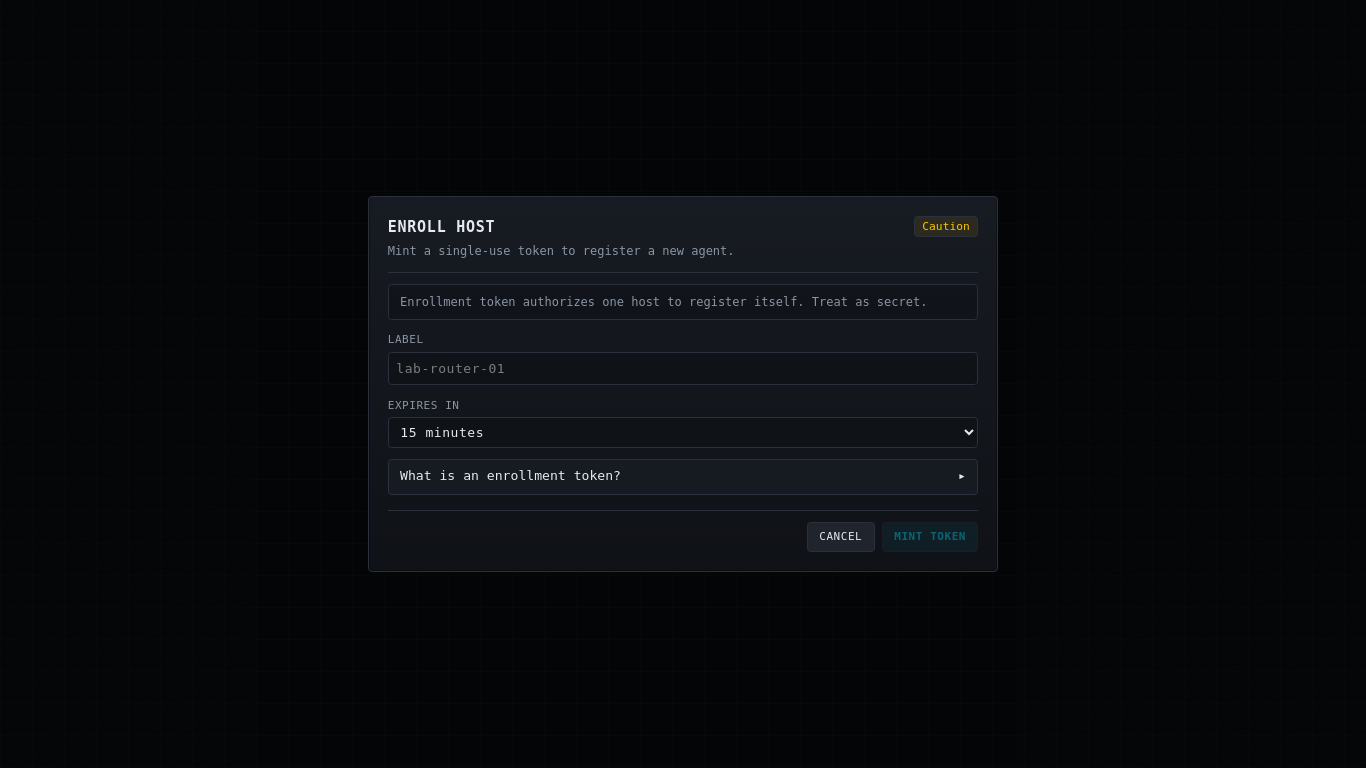
Scenario: EnrollmentModal step 3 watching › shows watching state when user clicks Watch for redemption
Type "lab-01" into the field labelled "Label" at (683, 369), box x1=388 y1=352 x2=978 y2=385
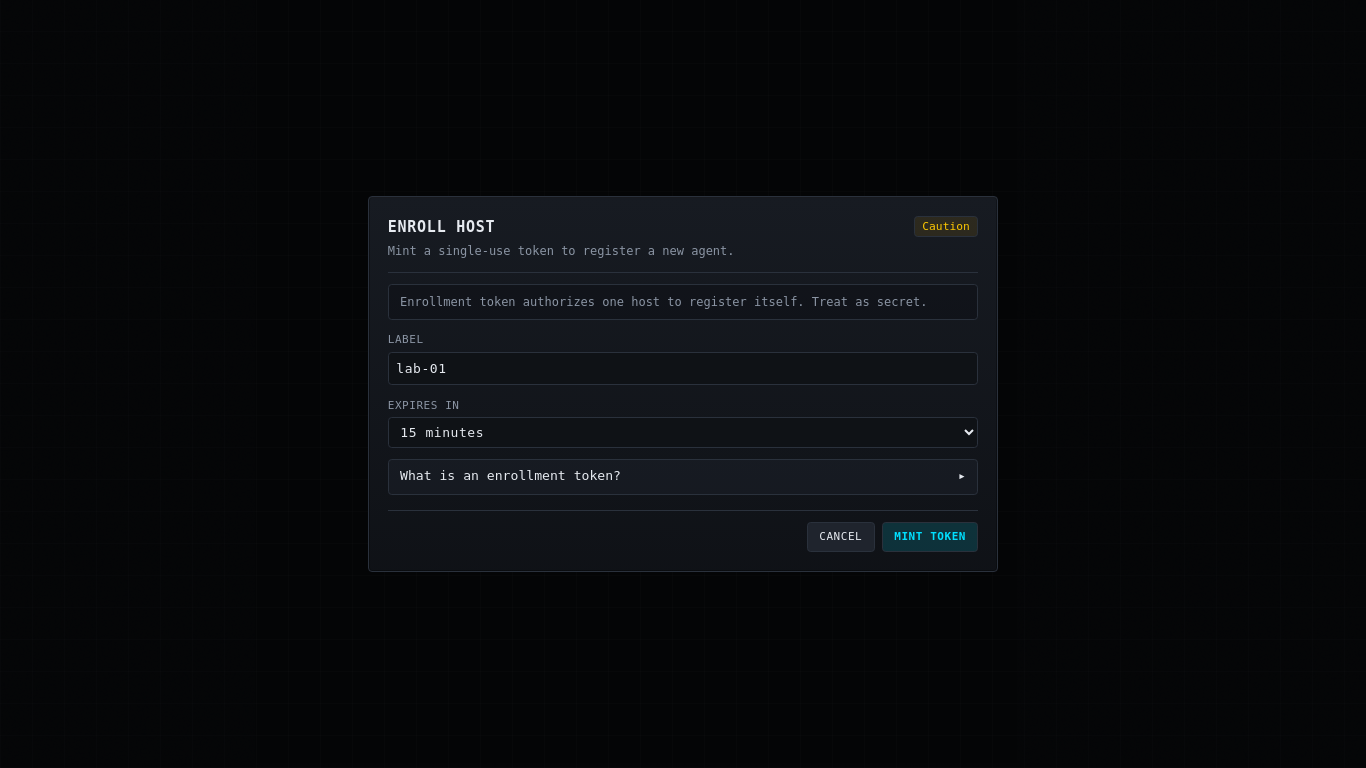
Click the button "Mint Token" at (930, 537), box x1=882 y1=522 x2=978 y2=552
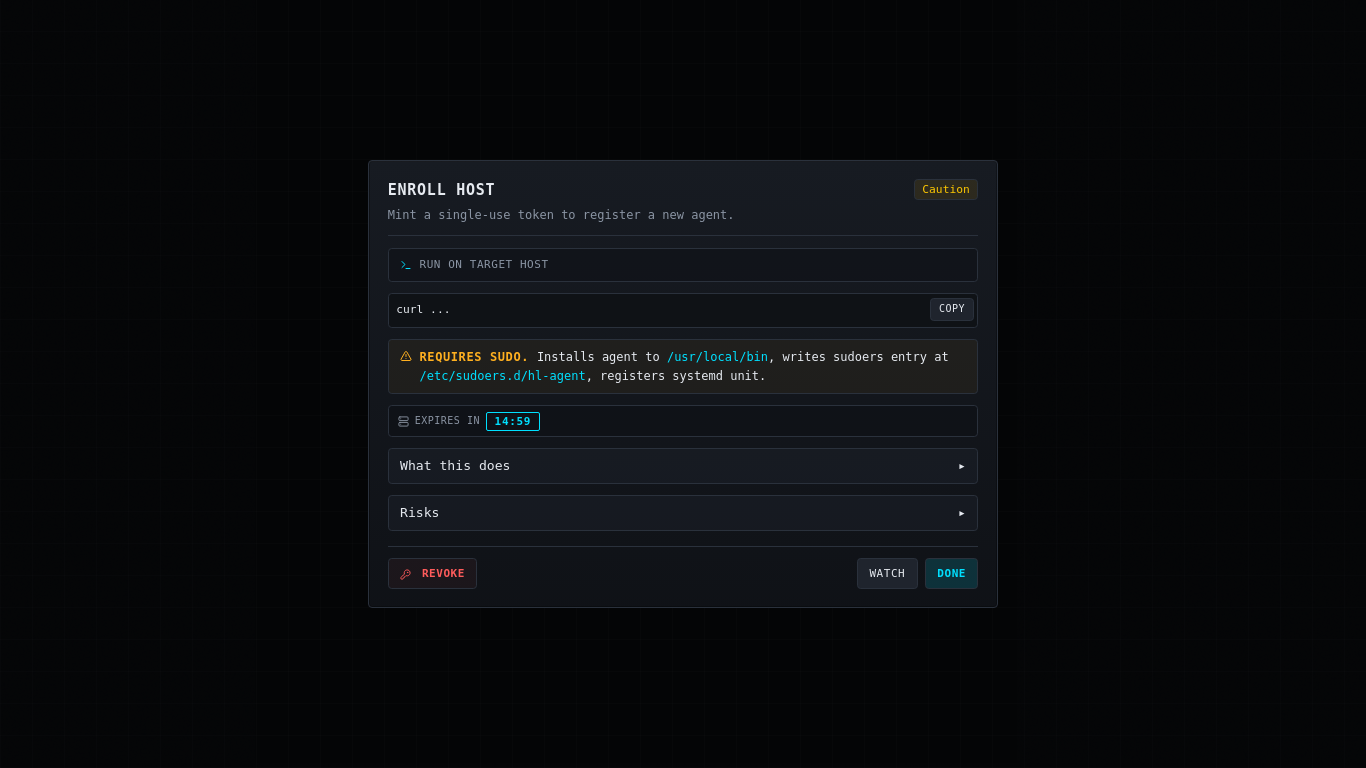
expect the button "Watch" is shown: met
Click the button "Watch" at (887, 574), box x1=857 y1=558 x2=918 y2=589
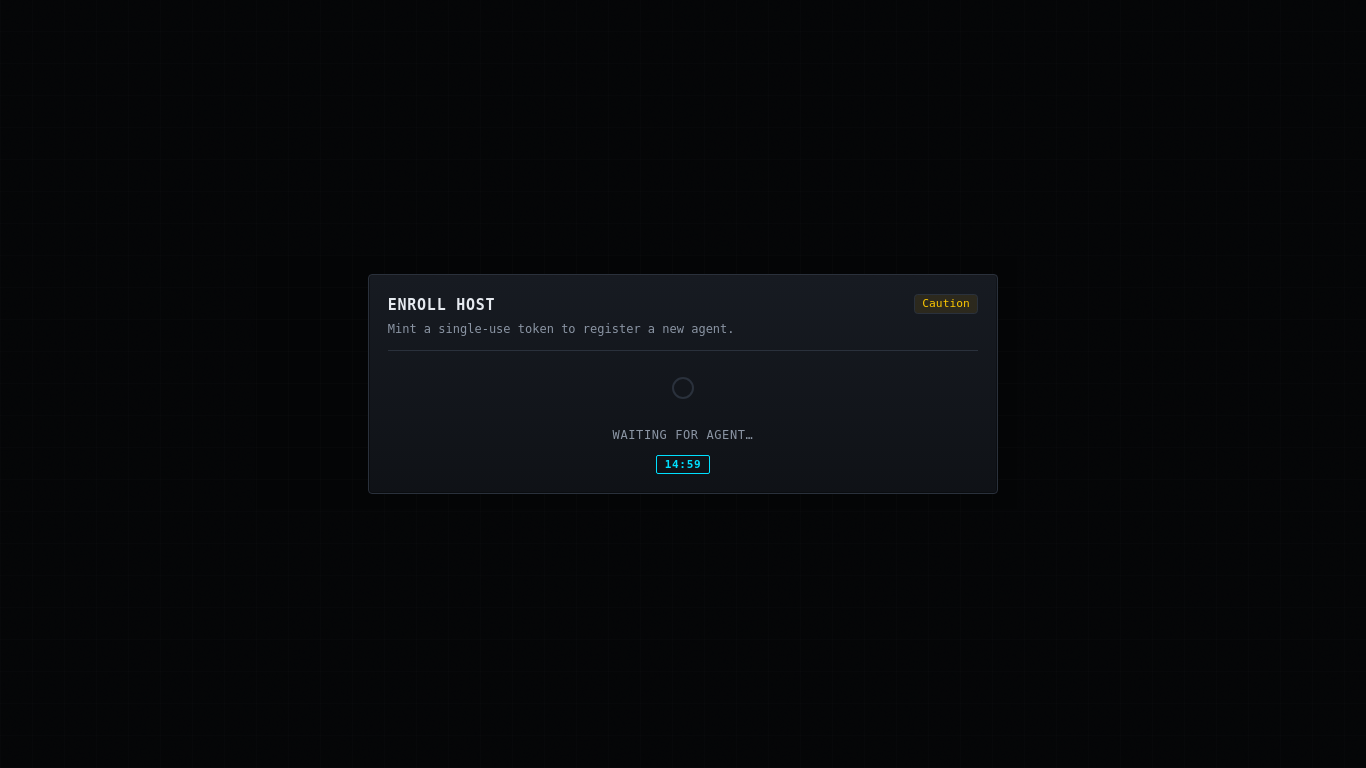
expect the text "Waiting for agent…" is shown: met, box x1=613 y1=428 x2=753 y2=442
